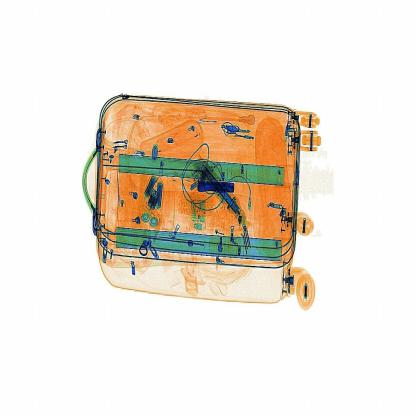knife: (194, 172, 239, 206)
